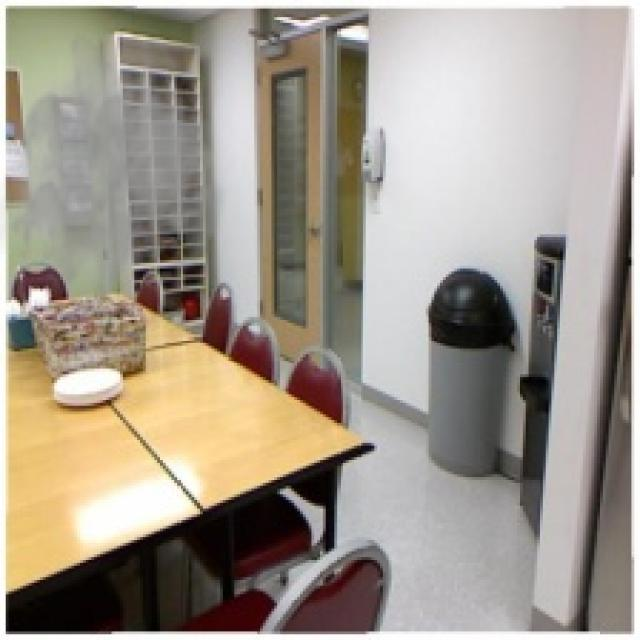Smoke: (0, 28, 240, 303)
